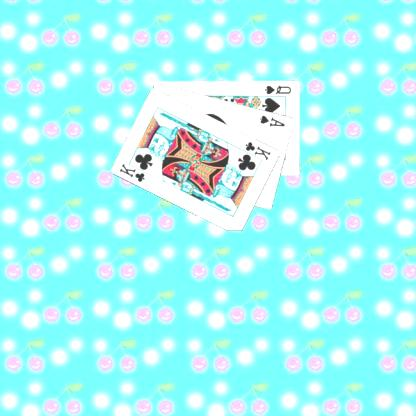AS: (257, 112, 287, 128)
KC: (116, 159, 152, 183), (238, 139, 272, 162)
QS: (262, 82, 292, 95)
